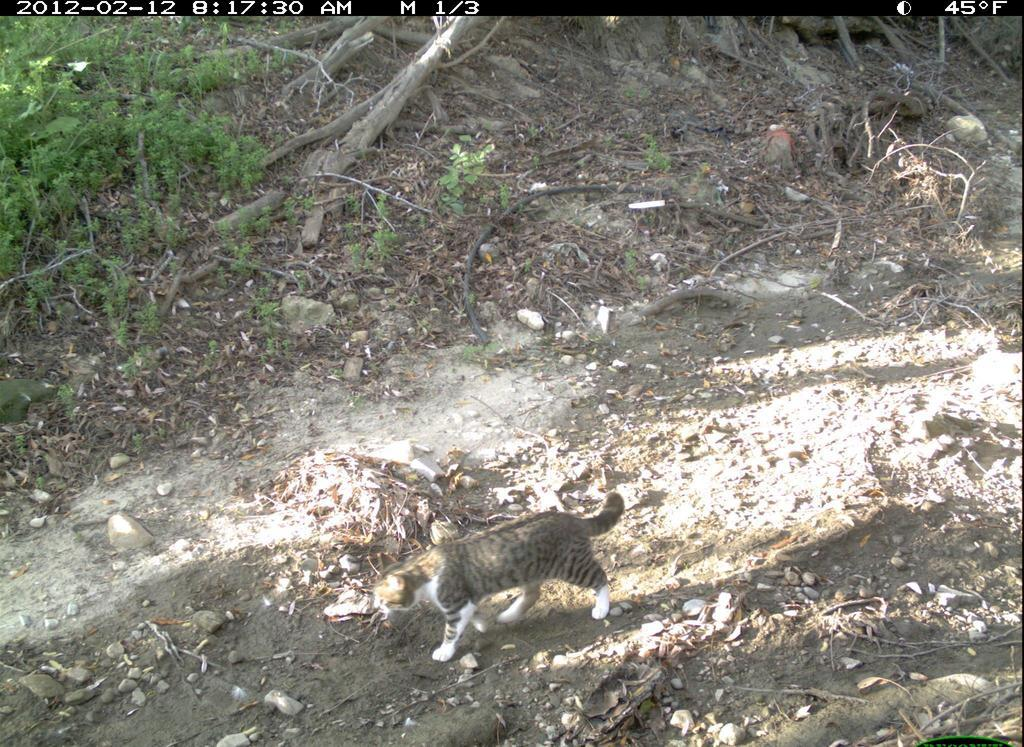cat: (373, 468, 652, 662)
